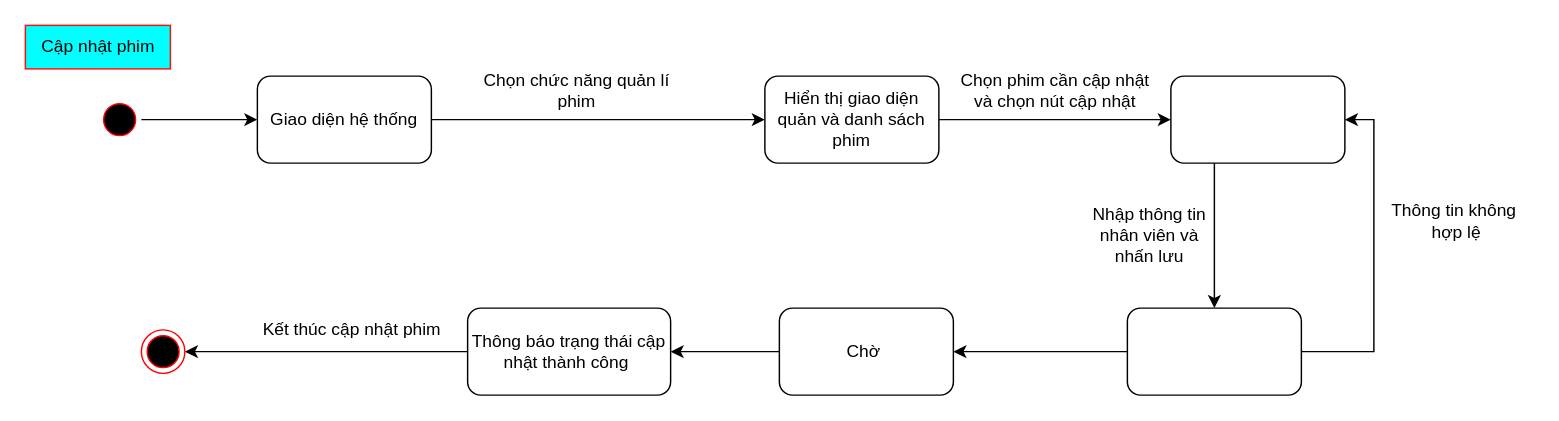
The diagram is 1559 pixels wide and 421 high, and some of its shapes have lost their labels. Each missing label, with the centre of its shape:
Hiển thị giao cập nhật phim: (x=1257, y=119)
Kiểm tra thông tin phim vừa nhập: (x=1213, y=351)
